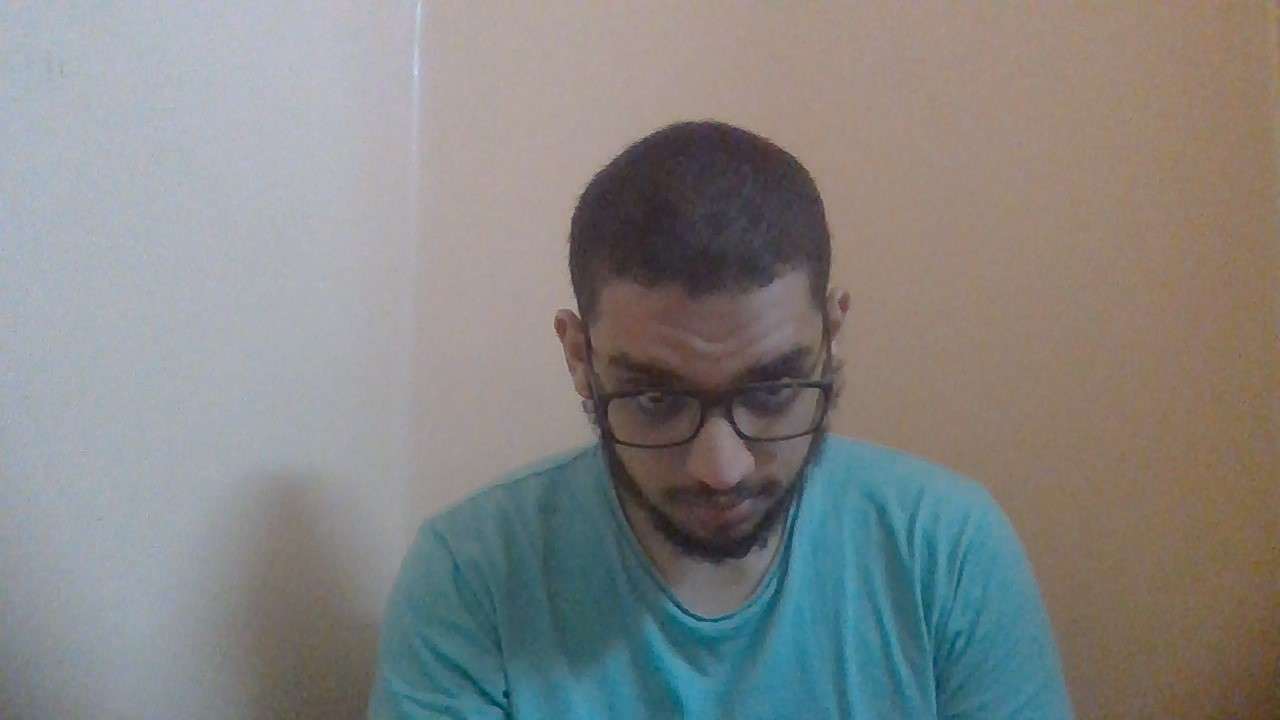Nomask: (604, 430, 812, 554)
